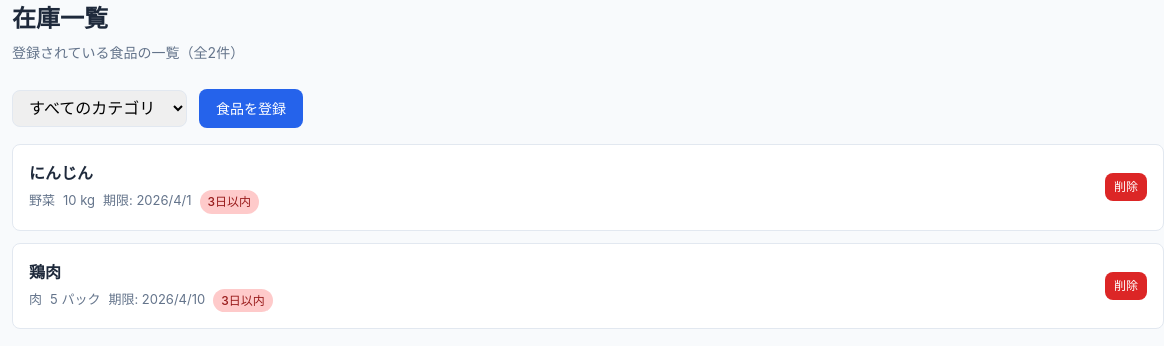
Scenario: FoodItemList › 削除確認でOKするとAPIが呼ばれアイテムが一覧から消える
Check: the text "にんじん" is shown, box [29,163,93,183]
What coordinates should you click on to do the following:
click the button "削除" in the row of "kg"
I would click on:
 (1126, 187)
Its box is [1105,173,1147,201].
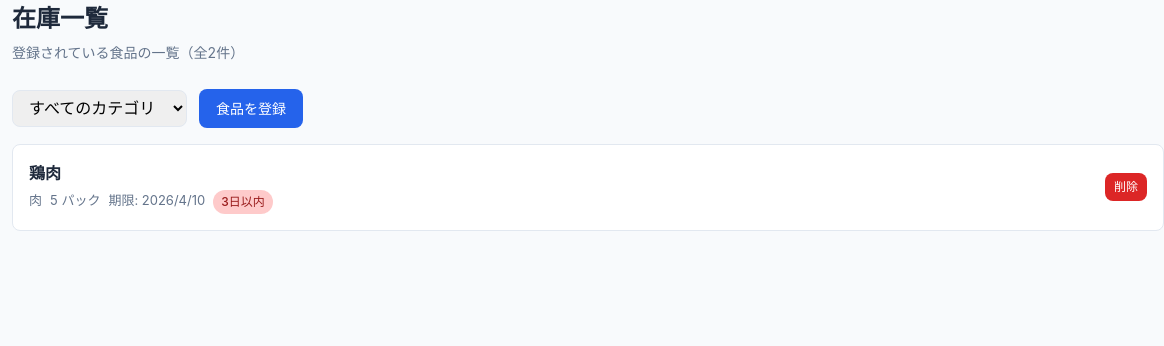
Check: the text "にんじん" is gone
